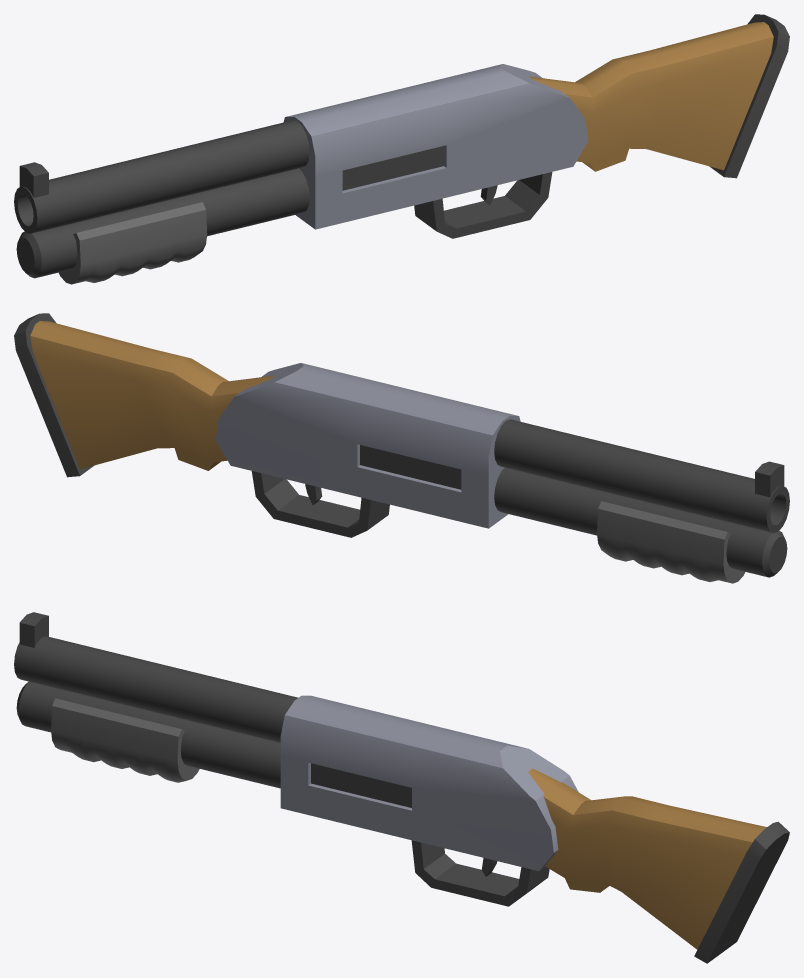
The model's file is Shotgun.glb.
3 renders of one model, top to bottom at view 1: azimuth 30°, elevation 25°; view 2: azimuth 150°, elevation 25°; view 3: azimuth 330°, elevation 25°, orthographic.
Parts seen in each view (by area): view 1: Shotgun; view 2: Shotgun; view 3: Shotgun.
Boxes of the visible parts, x1,y1,x2,y2 form: Shotgun: (14, 14, 789, 284); Shotgun: (14, 313, 789, 583); Shotgun: (14, 612, 789, 963).
Bounding box in the file's own units: 1.55 × 0.3308 × 0.1225.
